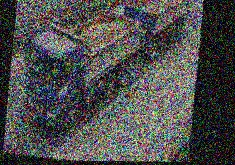truck: (18, 0, 193, 147)
